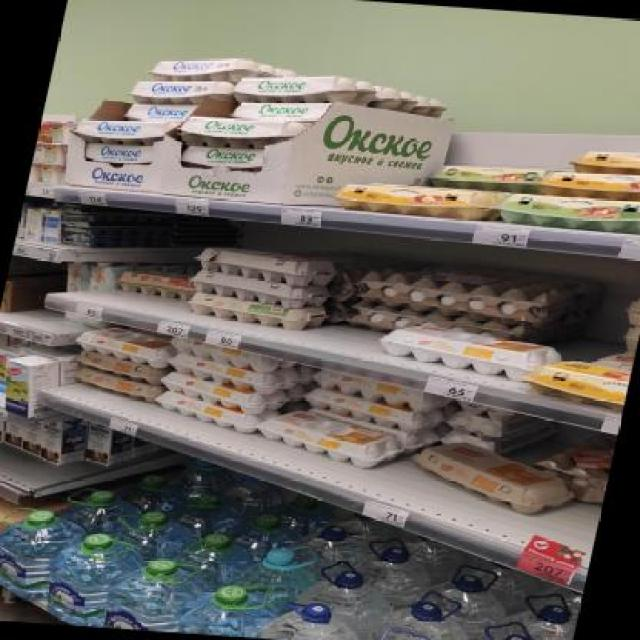Egg: (402, 439, 584, 515), (25, 532, 144, 625), (378, 320, 567, 377), (248, 407, 410, 470), (100, 551, 211, 634), (0, 506, 95, 600), (293, 558, 401, 639), (328, 178, 507, 222), (346, 532, 443, 606), (418, 560, 514, 634), (494, 189, 640, 237), (182, 290, 332, 334), (178, 576, 284, 638), (232, 68, 377, 108), (522, 356, 632, 407), (378, 587, 474, 640), (166, 529, 256, 585), (105, 506, 195, 562), (231, 541, 321, 596), (178, 114, 304, 152), (0, 351, 68, 420), (425, 160, 550, 196), (500, 586, 583, 640), (534, 163, 640, 205), (267, 596, 358, 640), (144, 52, 253, 86), (127, 74, 236, 108), (57, 485, 138, 530), (30, 413, 95, 467), (73, 115, 178, 148), (111, 266, 203, 300), (566, 140, 640, 180), (231, 98, 327, 124), (81, 421, 130, 468), (179, 144, 263, 170), (125, 100, 203, 123), (82, 141, 156, 165)
